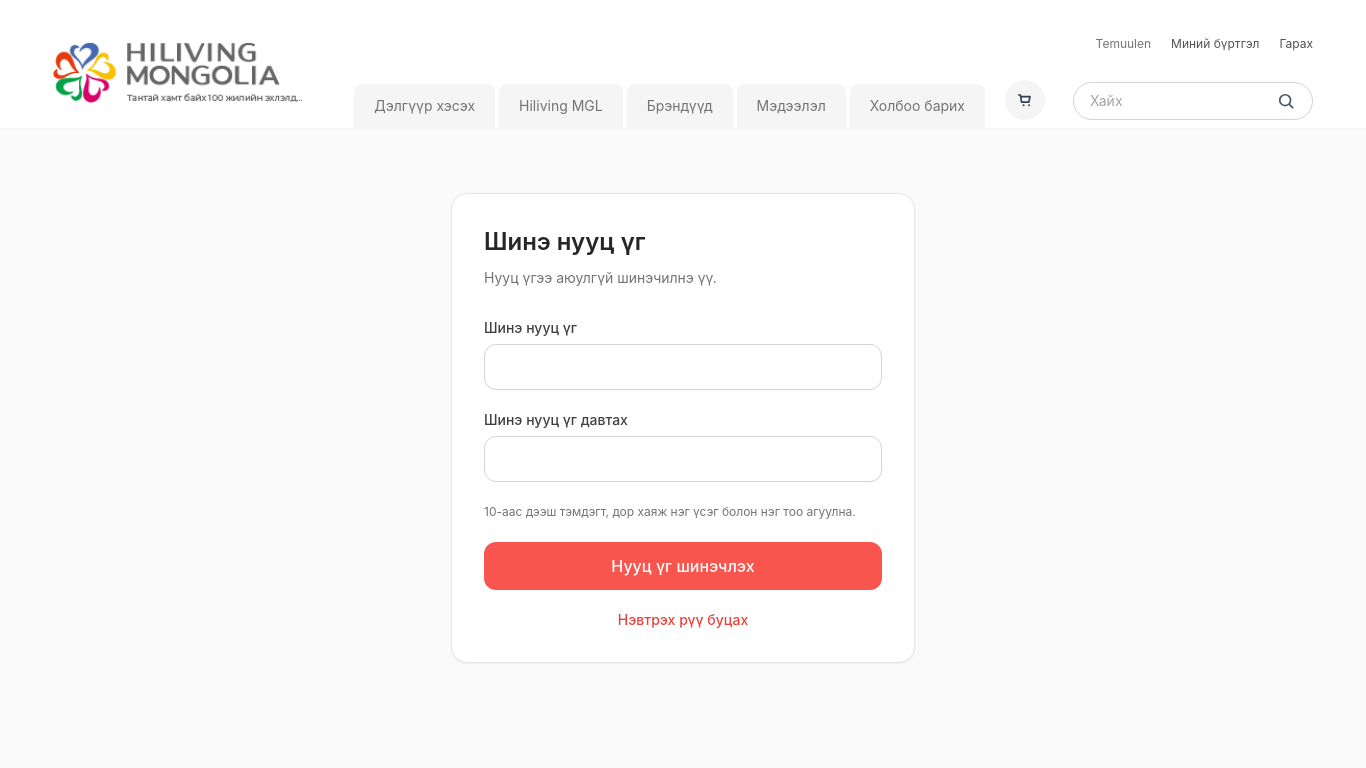
account recovery pages › shows a safe combined invalid, expired, or used reset-link error
The width and height of the screenshot is (1366, 768).
Type "NewPassword123" into the password field labelled "Шинэ нууц үг". click: (683, 367)
box: top-left (484, 344), bottom-right (882, 390)
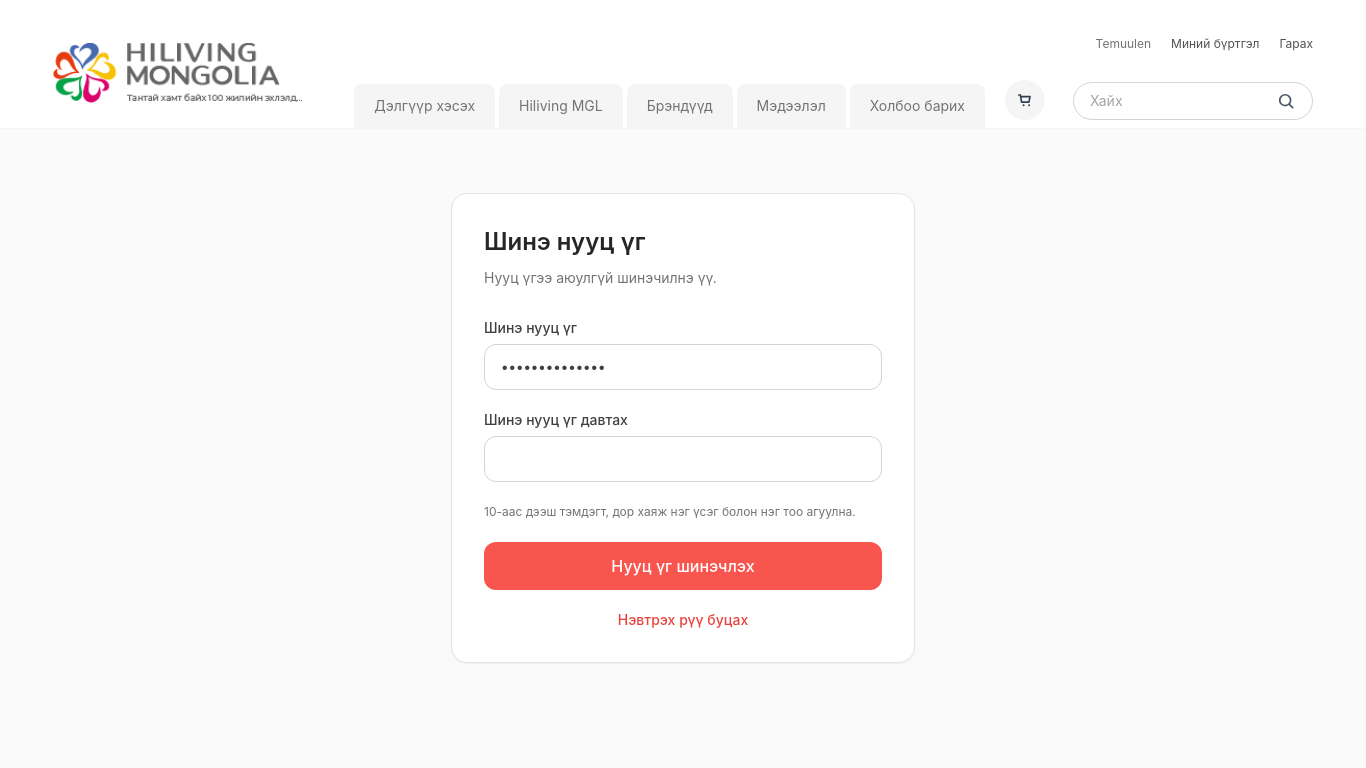
Type "NewPassword123" into the password field labelled "Шинэ нууц үг давтах". click: (683, 459)
box: top-left (484, 436), bottom-right (882, 482)
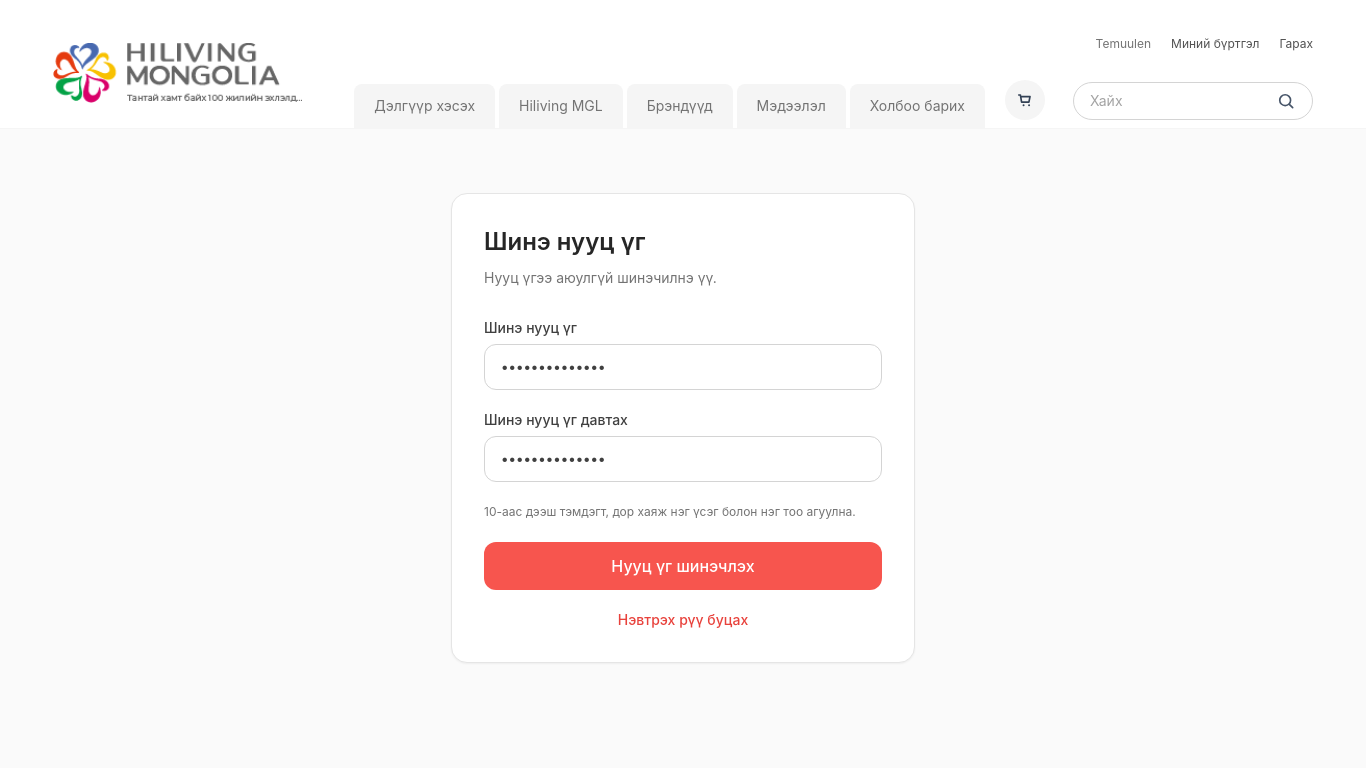
Click the button "Нууц үг шинэчлэх". click: (683, 566)
box: top-left (484, 542), bottom-right (882, 590)
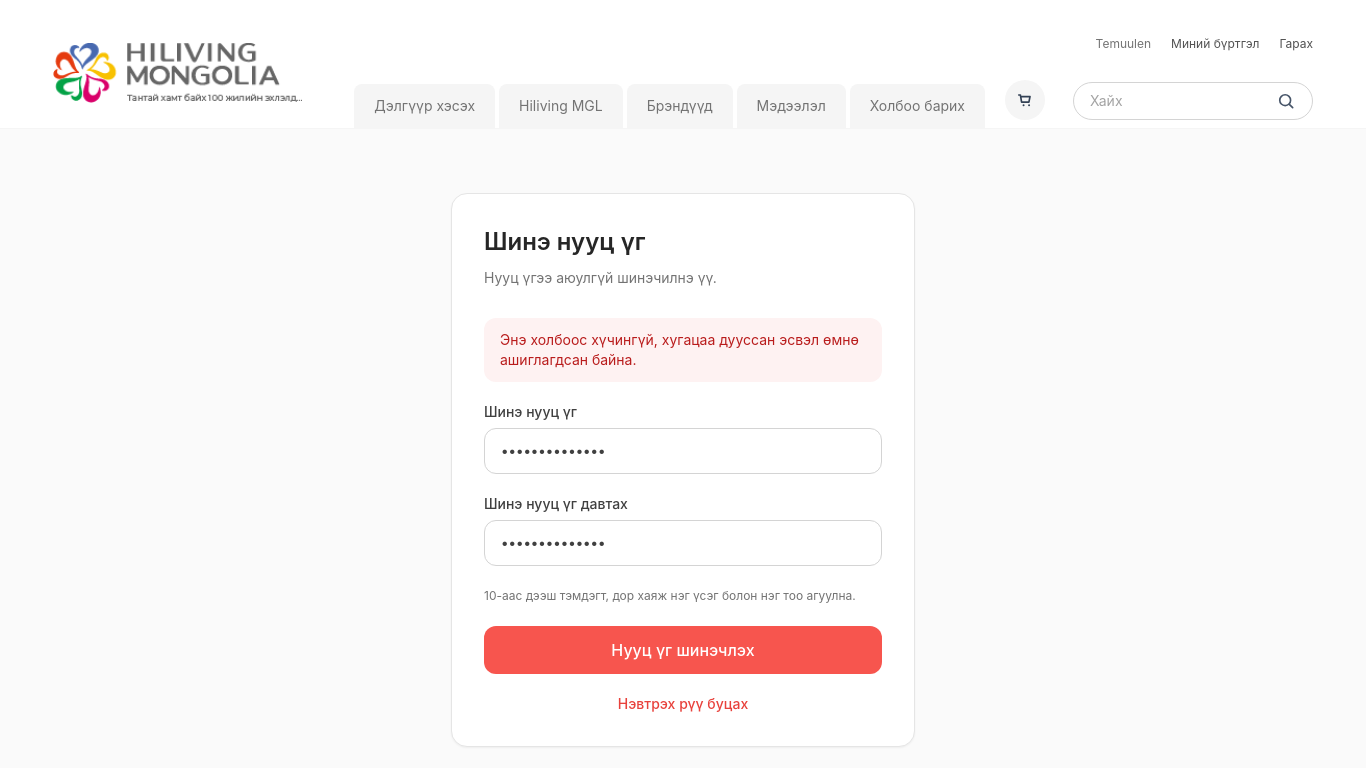
Expected: the message shows "хүчингүй, хугацаа дууссан эсвэл өмнө ашиглагдсан", top-left (500, 331), bottom-right (859, 368)
